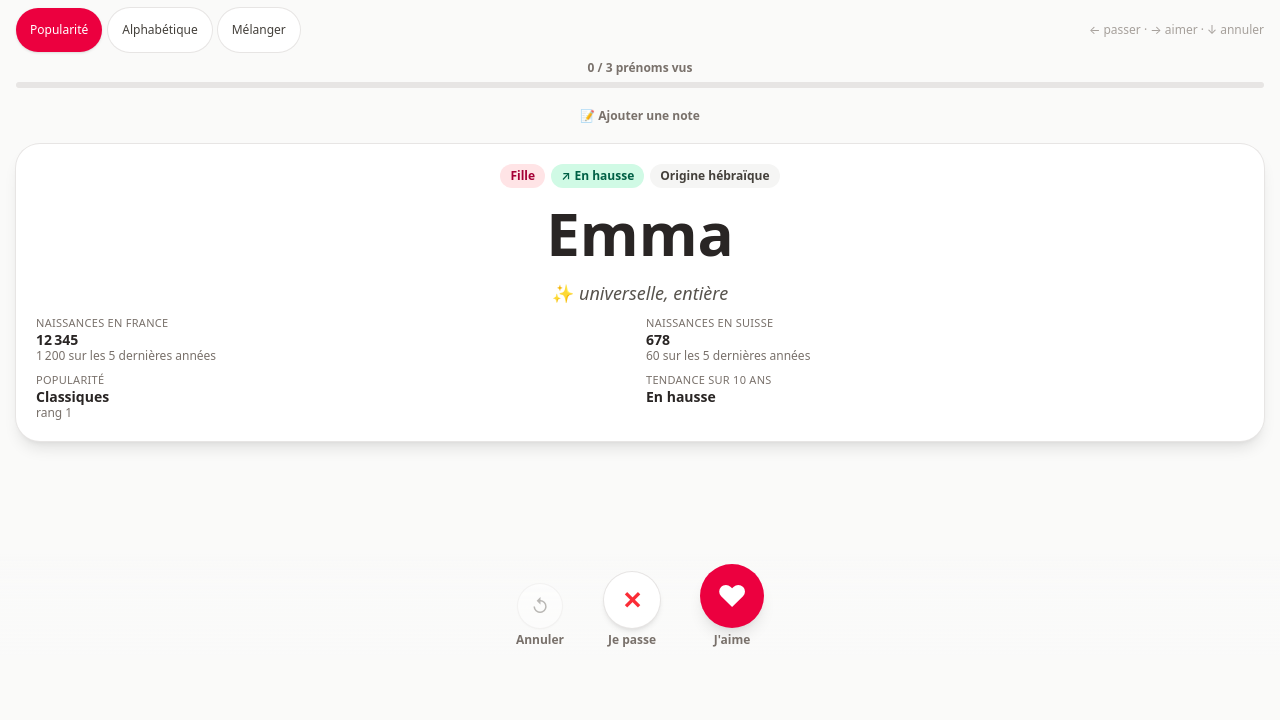
Scenario: SwipePage › stores a like, moves to the next card and shows the partner hint
Expected: the heading "Emma" is shown, [546,196,734,271]
Click the button named "J'aime" at (732,596), box [700,564,764,628]
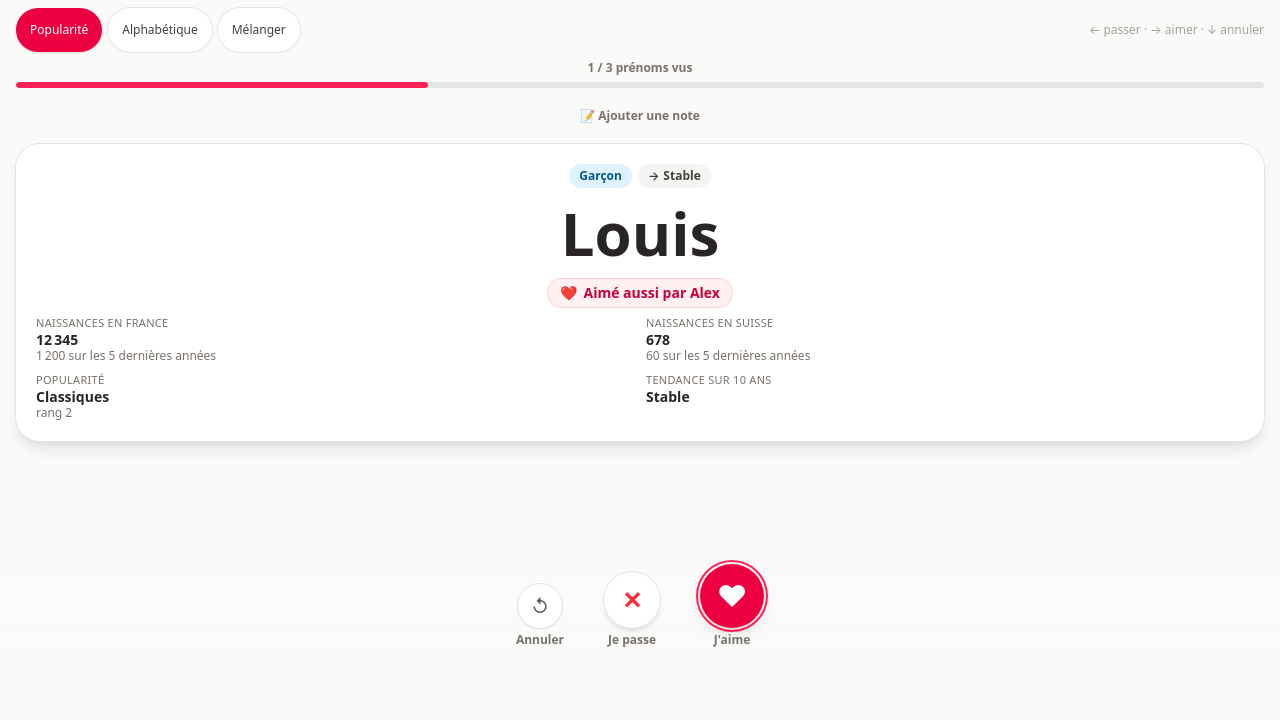
Now the heading "Louis" is shown, box [561,196,719,271]
Now the text "Aimé aussi par Alex" is shown, box [548,279,732,307]
Now the text "1 / 3 prénoms vus" is shown, box [588,59,692,76]
